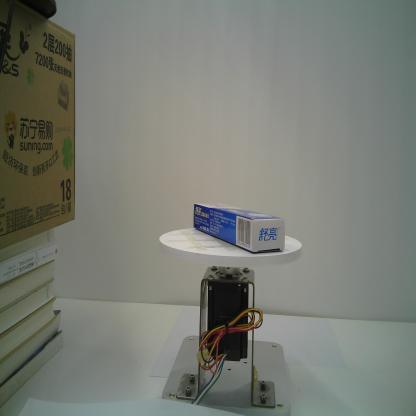Personal Hygiene: (193, 199, 286, 255)
